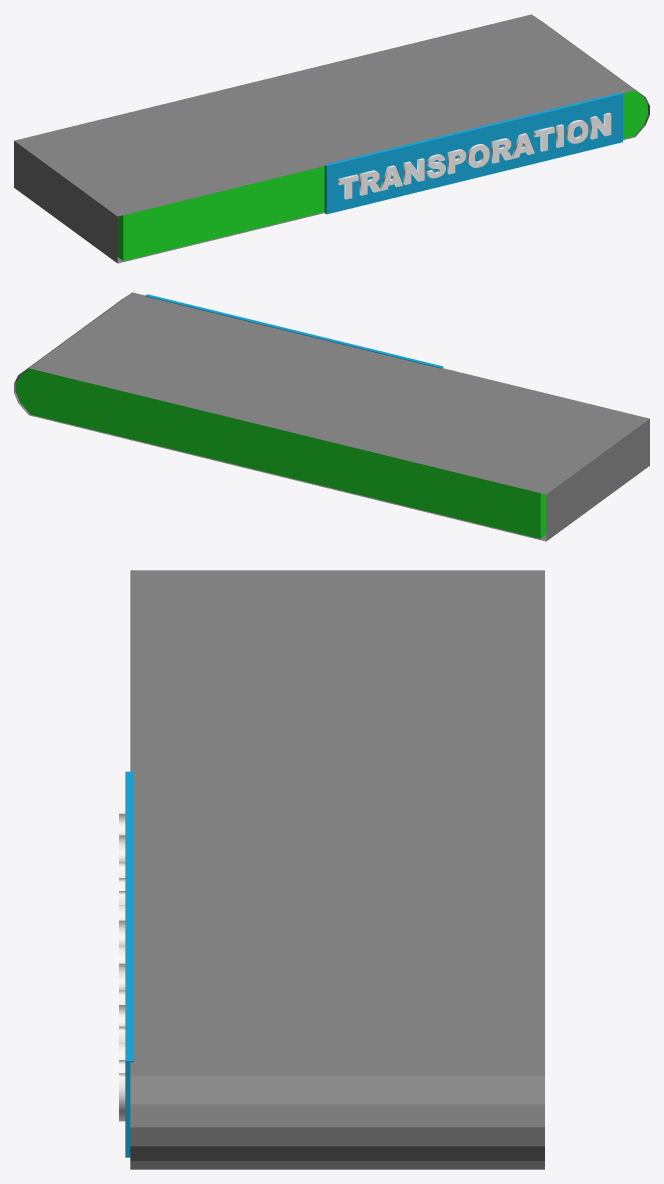
The model's file is Transporation.fbx.
The picture shows the model from 3 angles, top to bottom: view 1: azimuth 30°, elevation 25°; view 2: azimuth 150°, elevation 25°; view 3: azimuth 270°, elevation 25°; orthographic projection. The views are drawn at different scales.
Parts seen in each view (by area): view 1: Cube.001, Куб, Cube, Текст; view 2: Cube.001, Cube, Куб; view 3: Cube.001, Куб, Текст.
Part boxes in pixels (left/top/right/bottom): Cube.001: left=14, top=14, right=649, bottom=263; Куб: left=324, top=92, right=622, bottom=214; Cube: left=117, top=90, right=647, bottom=260; Текст: left=338, top=112, right=611, bottom=199; Cube.001: left=14, top=292, right=649, bottom=541; Cube: left=16, top=368, right=546, bottom=538; Куб: left=145, top=294, right=443, bottom=368; Cube.001: left=130, top=570, right=544, bottom=1169; Куб: left=125, top=771, right=133, bottom=1157; Текст: left=119, top=813, right=125, bottom=1121.
Size of the model in its own units: 475 by 41.21 by 165.
